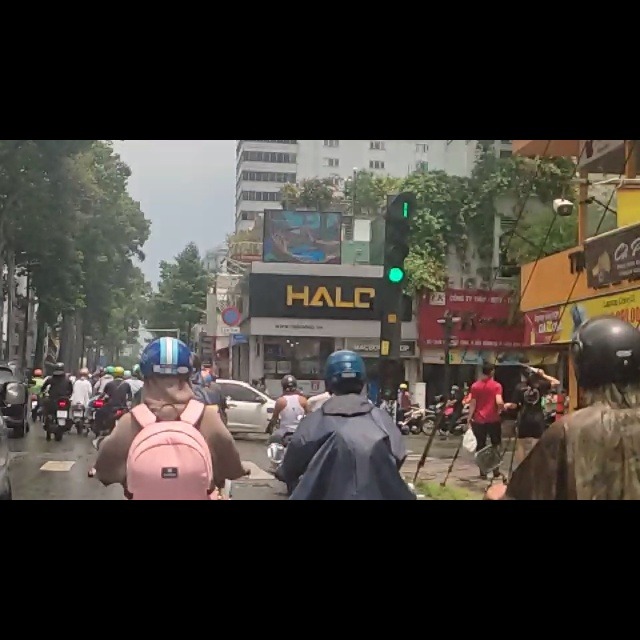bien_cam: (221, 294, 240, 331)
